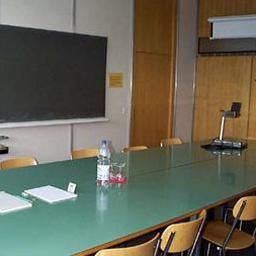Puerta: (136, 51, 172, 144)
